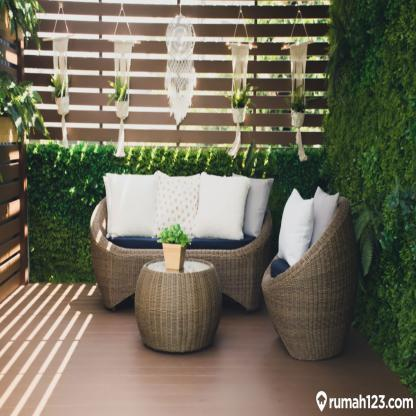kursi: (256, 196, 388, 356)
sova: (76, 181, 264, 322)
tanaman: (159, 225, 190, 270), (51, 76, 74, 116), (111, 80, 134, 119)
